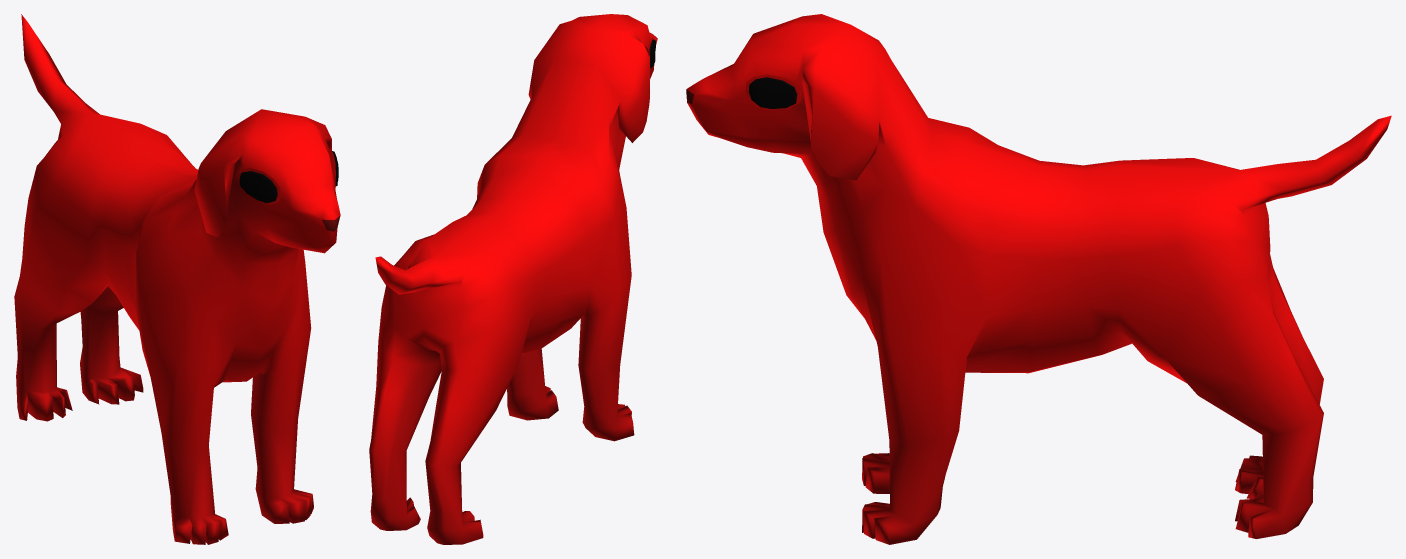
The model's file is Animals_LabradorPuppy.fbx.
3 views of the same model, side by side, from view 1: azimuth 30°, elevation 25°; view 2: azimuth 150°, elevation 25°; view 3: azimuth 270°, elevation 25° (orthographic). The views are drawn at different scales.
Visible parts, largest first — view 1: base; view 2: base; view 3: base.
Part boxes in pixels (x1,y1,x2,y2): base: [14, 14, 340, 544]; base: [369, 14, 657, 544]; base: [686, 14, 1391, 544].
Bounding box in the file's own units: 18.39 × 48.55 × 64.35.
